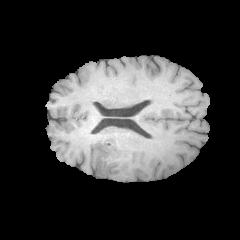glioma: (89, 137, 134, 178)
